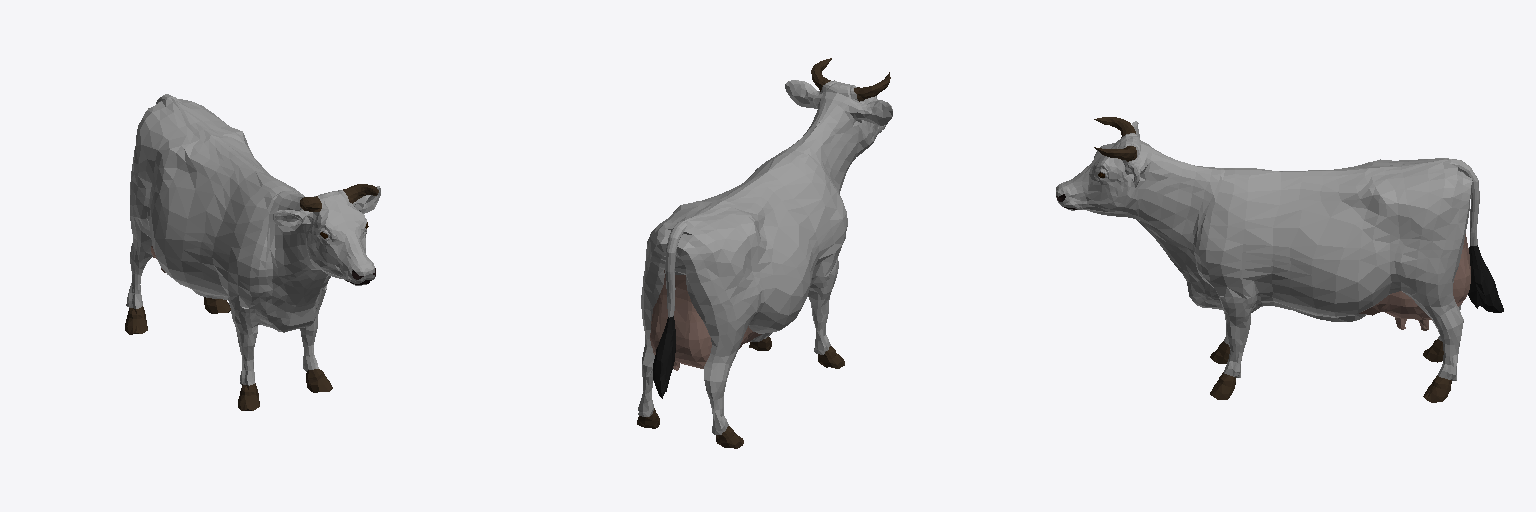
The model's file is cow.obj.
The picture shows the model from 3 angles: view 1: azimuth 30°, elevation 25°; view 2: azimuth 150°, elevation 25°; view 3: azimuth 270°, elevation 25°; orthographic projection.
Visible parts, largest first — view 1: Senza_Senza__CowHide1, Senza_Senza__CowHooves1, Senza_Senza__CowHorns1; view 2: Senza_Senza__CowHide1, Senza_Senza__CowUdder1, Senza_Senza__CowHooves1, Senza_Senza__CowTail1, Senza_Senza__CowHorns1; view 3: Senza_Senza__CowHide1, Senza_Senza__CowUdder1, Senza_Senza__CowHooves1, Senza_Senza__CowTail1, Senza_Senza__CowHorns1.
Part boxes in pixels (bbox=[...]): Senza_Senza__CowHide1: bbox=[126, 94, 380, 385]; Senza_Senza__CowHooves1: bbox=[125, 297, 332, 410]; Senza_Senza__CowHorns1: bbox=[300, 184, 378, 211]; Senza_Senza__CowHide1: bbox=[638, 80, 892, 434]; Senza_Senza__CowUdder1: bbox=[650, 270, 761, 370]; Senza_Senza__CowHooves1: bbox=[637, 337, 844, 448]; Senza_Senza__CowTail1: bbox=[653, 316, 675, 398]; Senza_Senza__CowHorns1: bbox=[811, 58, 890, 101]; Senza_Senza__CowHide1: bbox=[1056, 121, 1479, 380]; Senza_Senza__CowUdder1: bbox=[1359, 234, 1470, 330]; Senza_Senza__CowHooves1: bbox=[1210, 339, 1451, 402]; Senza_Senza__CowTail1: bbox=[1468, 245, 1503, 312]; Senza_Senza__CowHorns1: bbox=[1094, 117, 1136, 161].
Size of the model in its own units: 0.8235 by 1.53 by 2.54.